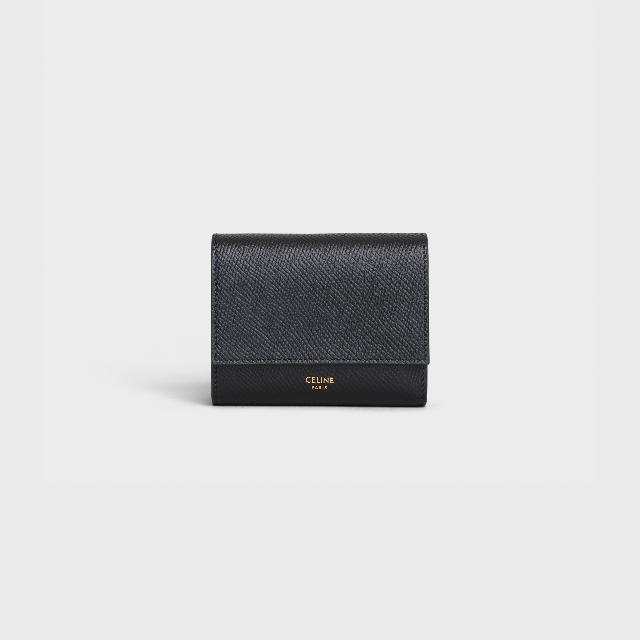Wallet: (209, 232, 427, 410)
